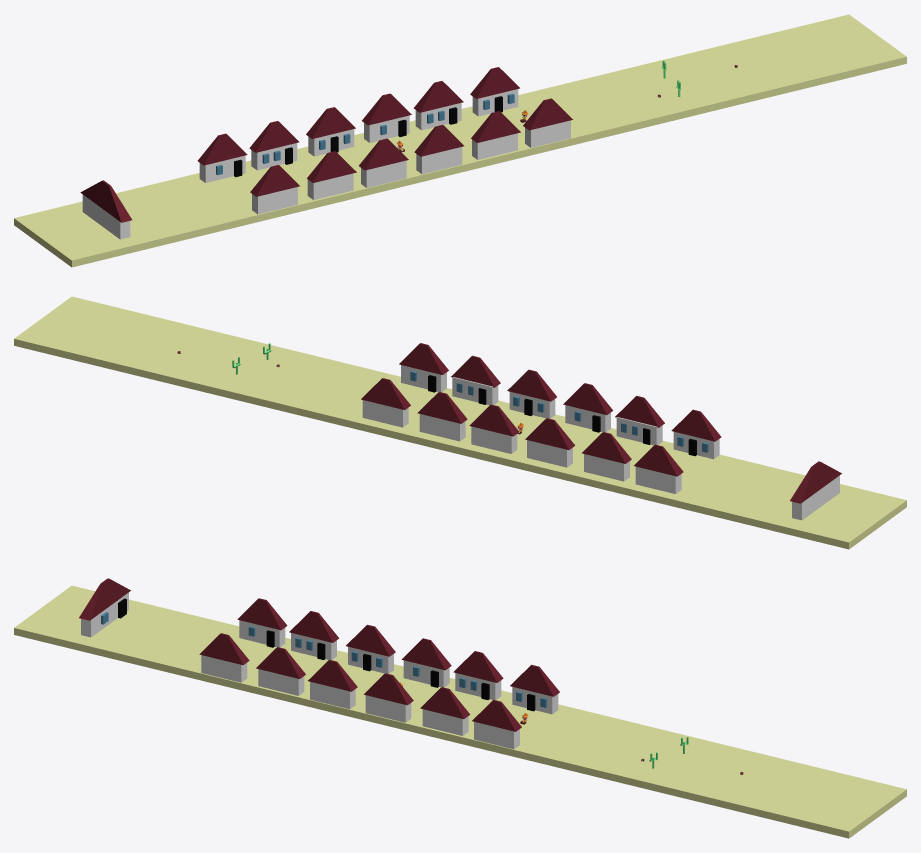
The model's file is westernA.fbx.
3 renders of one model, top to bottom at view 1: azimuth 30°, elevation 25°; view 2: azimuth 150°, elevation 25°; view 3: azimuth 330°, elevation 25°, orthographic.
Visible parts, largest first — view 1: Cube.013, Cube.061, Cube.060, Cube.069, Cube.017, Cube.047, Cube.065, Cube.048, Cube.079, Cube.015, Cube.019, Cube.082 (+15 smaller); view 2: Cube.013, Cube.061, Cube.060, Cube.046, Cube.015, Cube.049, Cube.014, Cube.019, Cube.067, Cube.016, Cube.018, Cube.064 (+15 smaller); view 3: Cube.013, Cube.061, Cube.080, Cube.015, Cube.049, Cube.019, Cube.046, Cube.082, Cube.048, Cube.065, Cube.081, Cube.079 (+15 smaller).
Part boxes in pixels (x1=…): Cube.013: x1=14, y1=14, x2=906, y2=267; Cube.061: x1=80, y1=180, x2=132, y2=222; Cube.060: x1=82, y1=194, x2=130, y2=239; Cube.069: x1=306, y1=107, x2=355, y2=138; Cube.017: x1=413, y1=81, x2=463, y2=112; Cube.047: x1=471, y1=111, x2=520, y2=142; Cube.065: x1=197, y1=133, x2=247, y2=165; Cube.048: x1=416, y1=147, x2=462, y2=174; Cube.079: x1=359, y1=138, x2=408, y2=170; Cube.015: x1=362, y1=93, x2=411, y2=125; Cube.019: x1=470, y1=67, x2=519, y2=98; Cube.082: x1=250, y1=165, x2=299, y2=196; Cube.013: x1=14, y1=296, x2=906, y2=549; Cube.061: x1=790, y1=461, x2=841, y2=503; Cube.060: x1=792, y1=475, x2=839, y2=520; Cube.046: x1=399, y1=343, x2=448, y2=374; Cube.015: x1=469, y1=404, x2=519, y2=436; Cube.049: x1=507, y1=369, x2=556, y2=401; Cube.014: x1=471, y1=426, x2=517, y2=453; Cube.019: x1=361, y1=378, x2=410, y2=409; Cube.067: x1=582, y1=432, x2=631, y2=463; Cube.016: x1=419, y1=414, x2=465, y2=441; Cube.018: x1=362, y1=400, x2=408, y2=427; Cube.064: x1=635, y1=466, x2=681, y2=493; Cube.013: x1=14, y1=585, x2=906, y2=838; Cube.061: x1=79, y1=578, x2=130, y2=620; Cube.080: x1=256, y1=647, x2=305, y2=678; Cube.015: x1=402, y1=638, x2=451, y2=670; Cube.049: x1=364, y1=673, x2=413, y2=705; Cube.019: x1=510, y1=664, x2=559, y2=696; Cube.046: x1=472, y1=700, x2=521, y2=731; Cube.082: x1=199, y1=633, x2=249, y2=665; Cube.048: x1=365, y1=695, x2=411, y2=722; Cube.065: x1=237, y1=598, x2=287, y2=630; Cube.081: x1=201, y1=655, x2=247, y2=682; Cube.079: x1=308, y1=659, x2=357, y2=691.
Bounding box in the file's own units: 50000 × 2762 × 6000.
